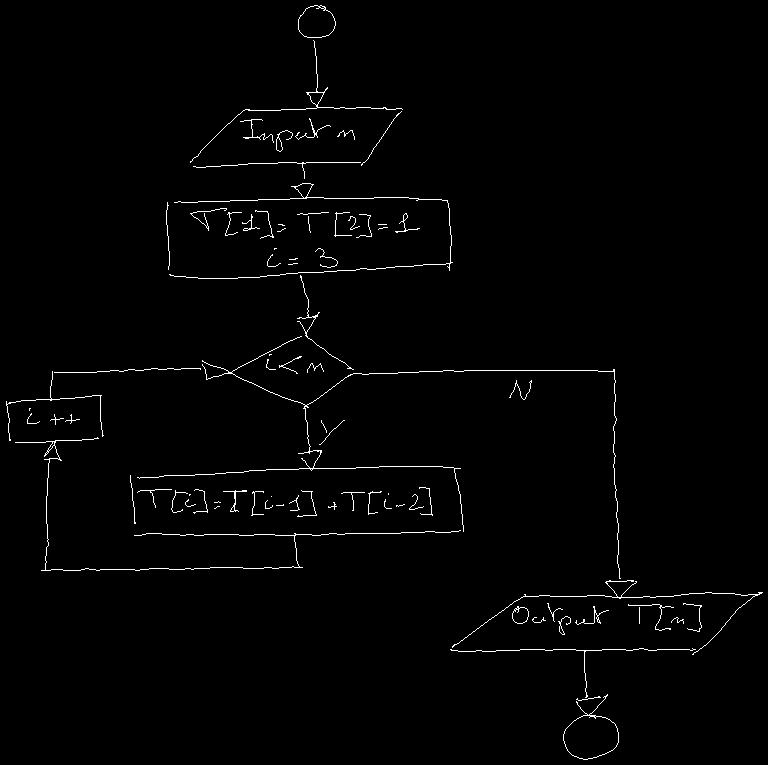arrow: (354, 369, 636, 598), (41, 441, 302, 570), (50, 360, 231, 400), (576, 650, 607, 715), (298, 406, 321, 470), (306, 40, 327, 107), (297, 275, 319, 334), (291, 162, 313, 198)
connection: (563, 715, 618, 759), (298, 5, 335, 37)
data: (450, 592, 762, 654), (190, 107, 402, 167)
decision: (230, 335, 354, 408)
process: (166, 197, 452, 278), (130, 466, 463, 535), (6, 395, 103, 442)
text: (190, 208, 419, 267), (137, 487, 432, 516), (512, 603, 701, 634), (240, 118, 354, 151), (266, 354, 323, 373), (27, 408, 79, 424), (319, 420, 344, 444), (509, 380, 531, 399)
